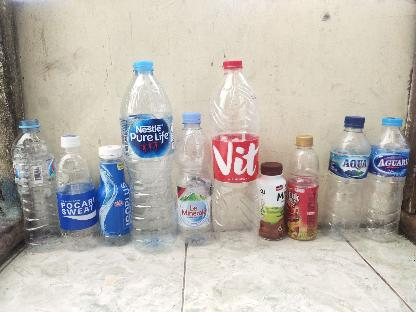Plastic Bottle: (119, 60, 178, 252), (210, 61, 260, 250), (10, 118, 60, 248), (360, 116, 410, 241), (323, 115, 372, 239), (55, 134, 99, 250), (174, 111, 212, 244), (96, 144, 132, 246), (285, 135, 319, 241), (258, 162, 286, 240)
